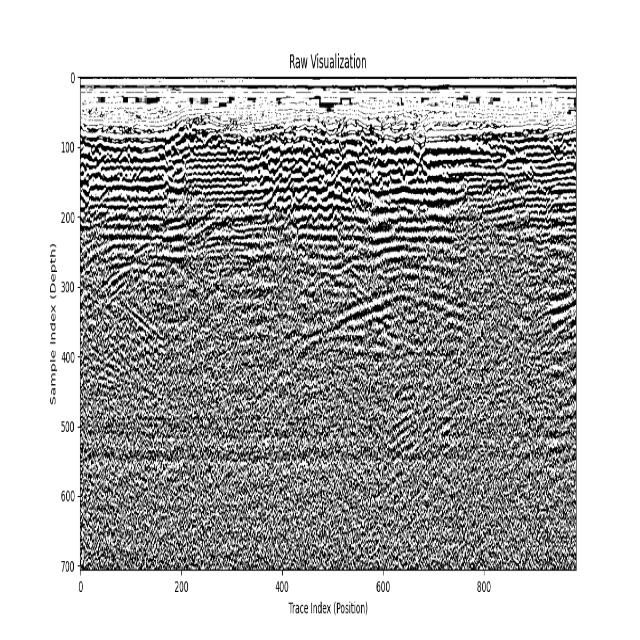anomaly: (263, 272, 472, 390), (79, 227, 206, 365), (545, 146, 576, 460), (381, 372, 469, 469)
